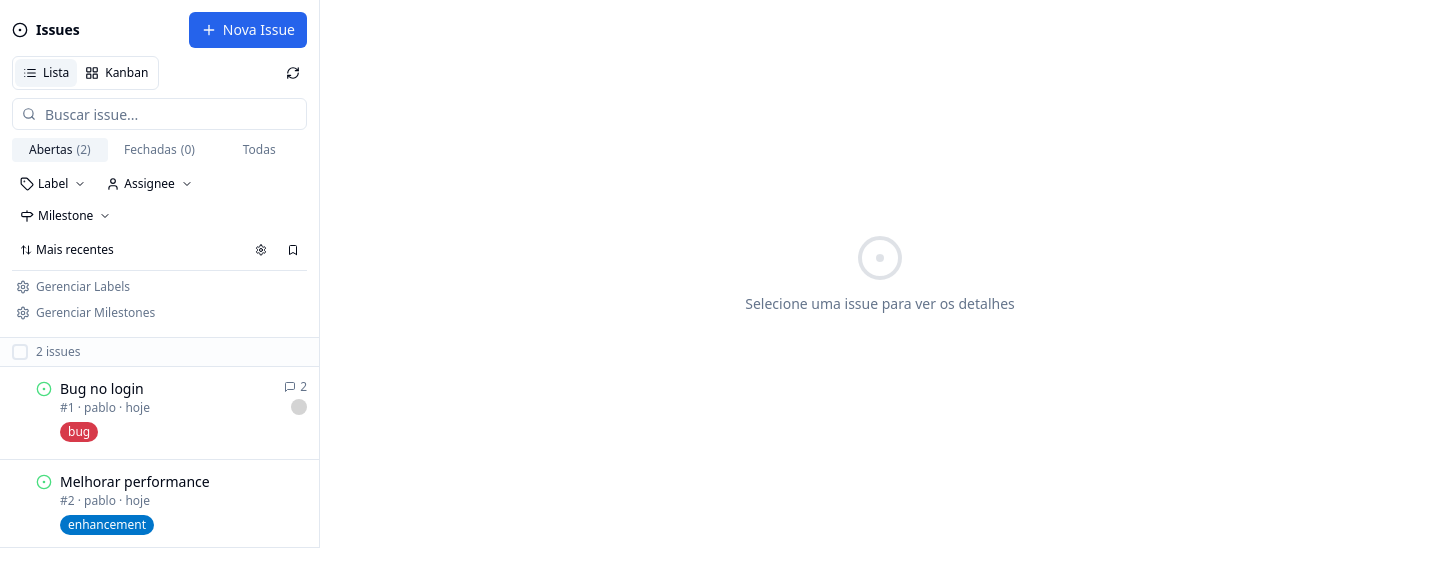
Test case: IssuesManager › edição de título › clicar no título abre o campo de edição
Click the text "Bug no login" at (102, 389), box [60, 379, 144, 398]
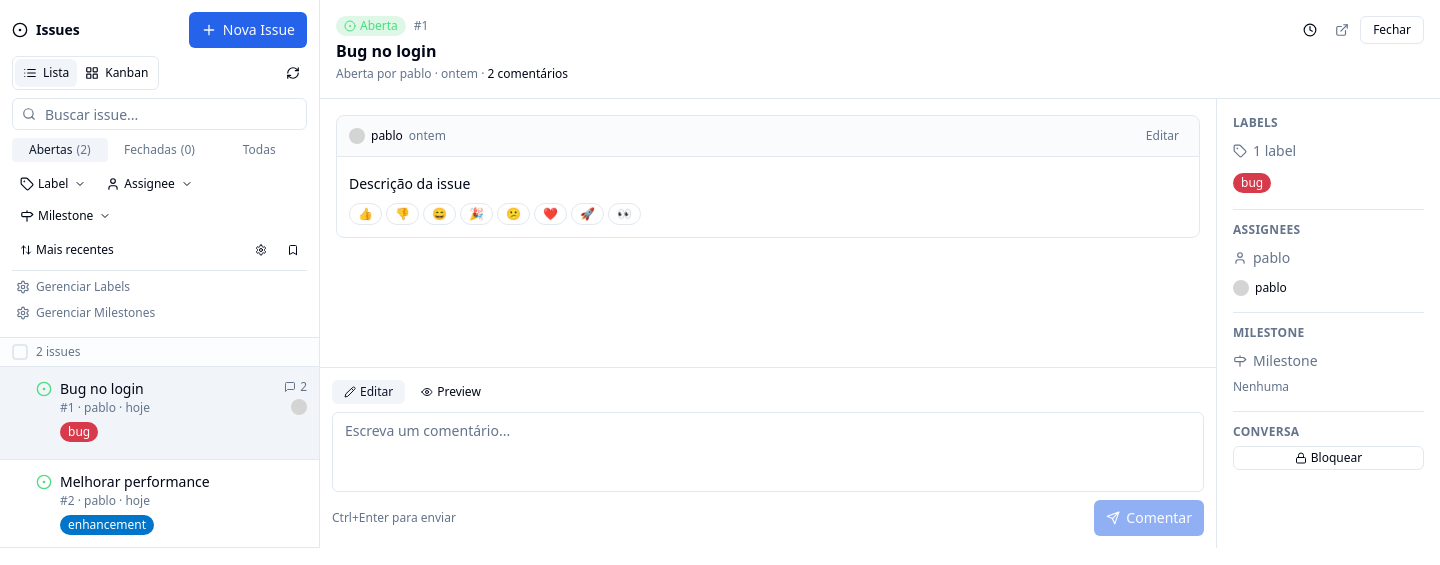
Now the heading "Bug no login" is shown
Click the heading "Bug no login" at (386, 51), box [336, 40, 436, 62]
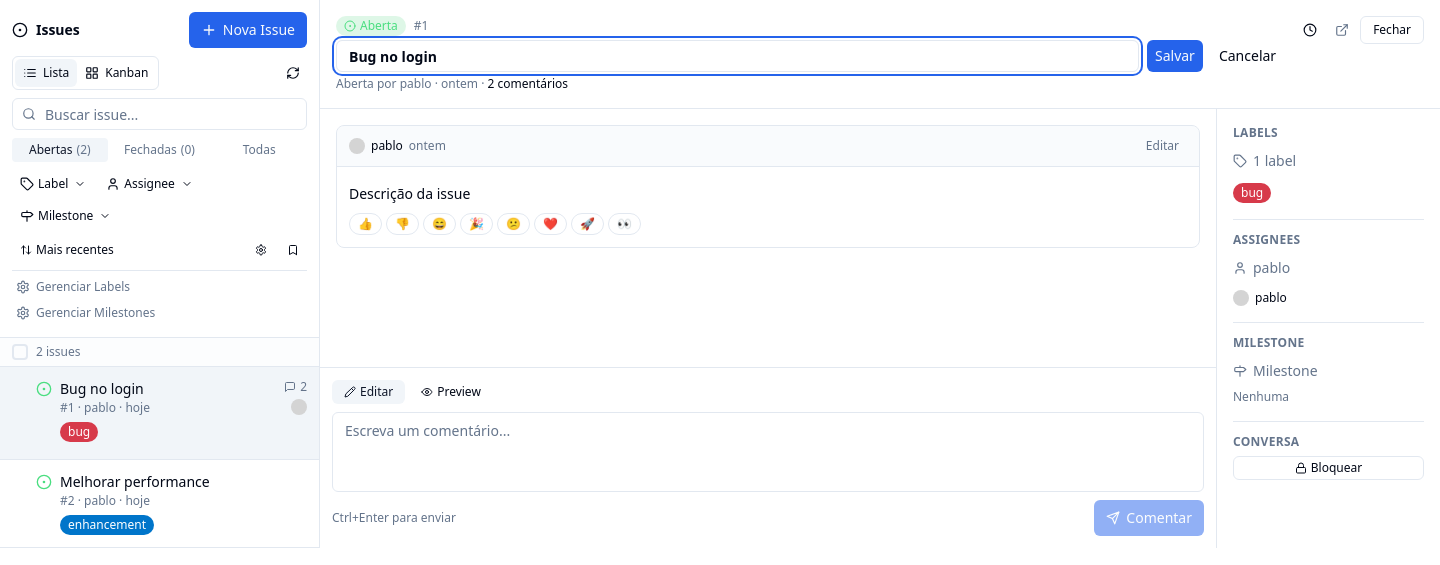
Now the field showing "Bug no login" is shown, box [336, 40, 1139, 72]
